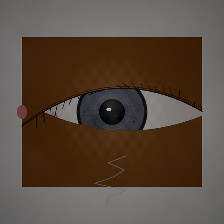foreign_body_visible: (74, 122, 96, 139)
